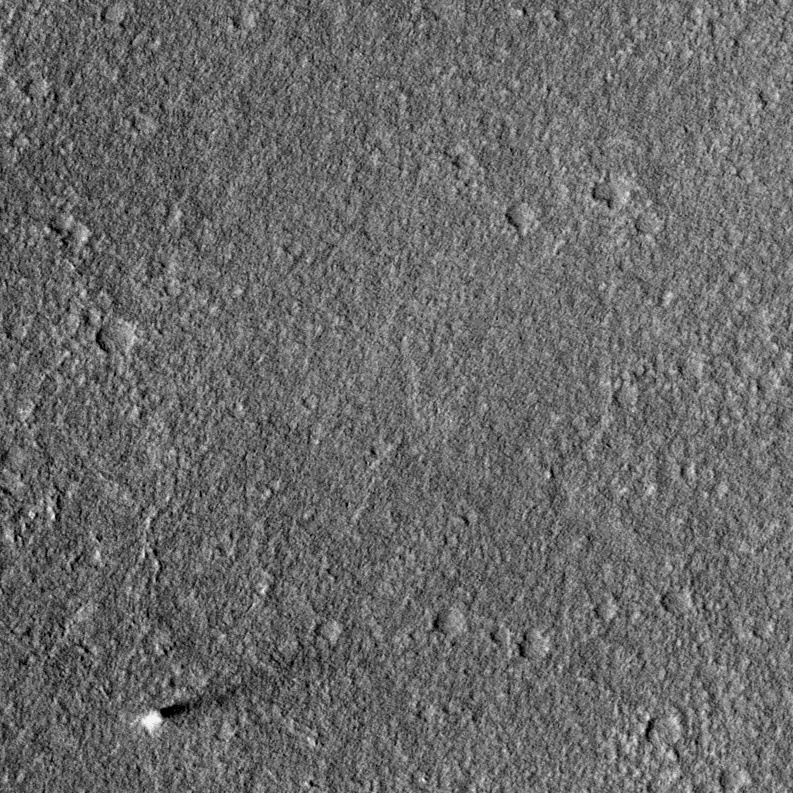dust_devil: (136, 681, 249, 734)
